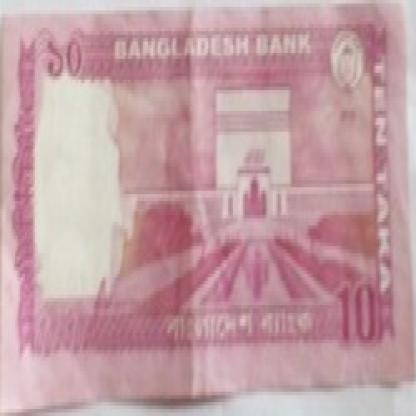Ten Taka: (336, 274, 378, 357)
one hundred taka: (45, 28, 83, 86)
